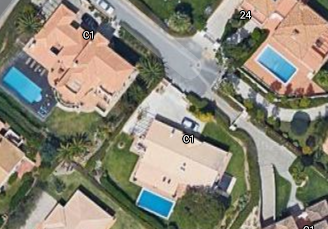pool: (7, 72, 44, 101), (262, 46, 292, 79), (140, 192, 175, 218)
